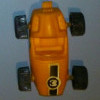naranja_sur: (15, 1, 87, 95)
